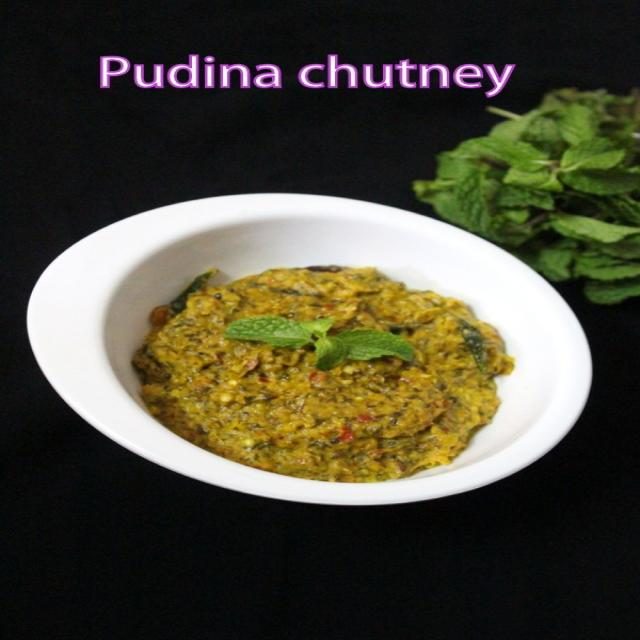puthina chutney: (143, 251, 519, 493)
